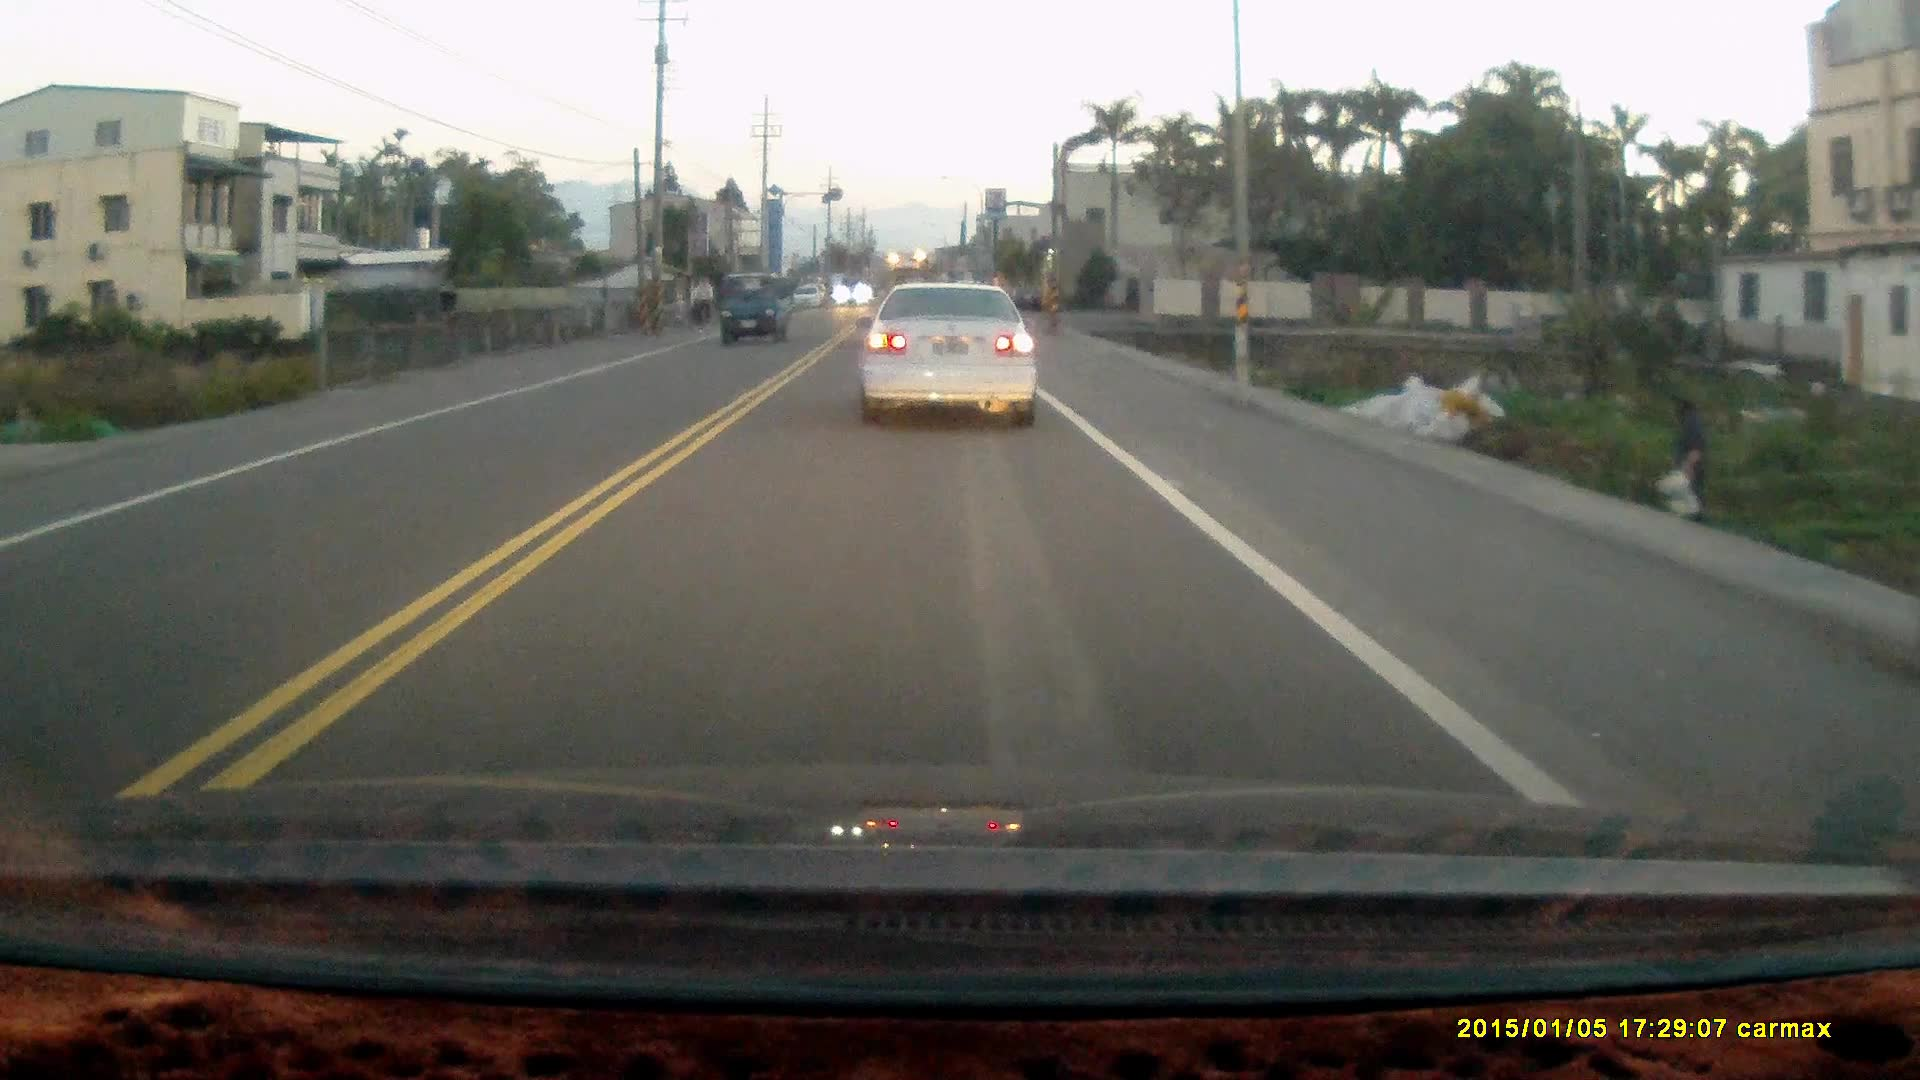pedestrian: (1663, 391, 1709, 529)
rider: (689, 274, 713, 332)
vehicle: (861, 283, 1045, 426), (718, 272, 793, 348), (839, 278, 866, 310), (794, 286, 825, 311)
